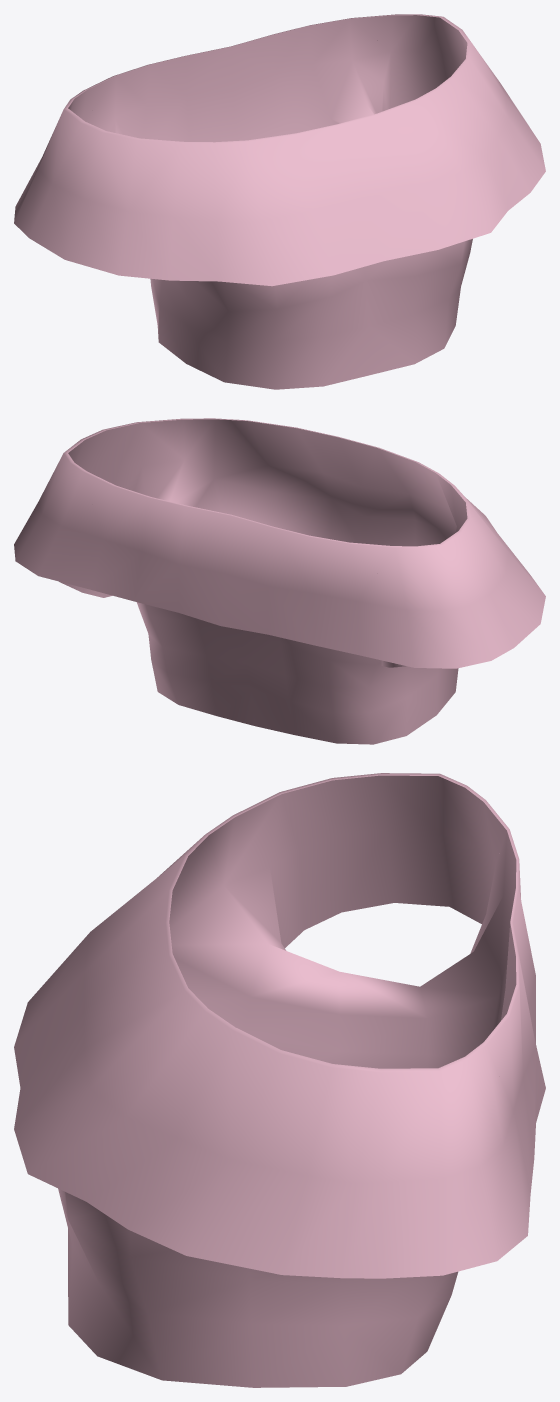
Rendered from blouse_24.glb.
3 renders of one model, top to bottom at view 1: azimuth 30°, elevation 25°; view 2: azimuth 150°, elevation 25°; view 3: azimuth 270°, elevation 25°, orthographic. The views are drawn at different scales.
Visible parts, largest first — view 1: blouse_24; view 2: blouse_24; view 3: blouse_24.
Boxes of the visible parts, x1=… form: blouse_24: x1=14, y1=14, x2=545, y2=389; blouse_24: x1=14, y1=418, x2=545, y2=744; blouse_24: x1=14, y1=773, x2=545, y2=1387.
Size of the model in its own units: 0.4803 by 0.2163 by 0.2834.
